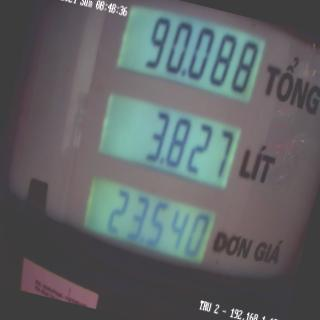screen: (61, 0, 275, 305)
